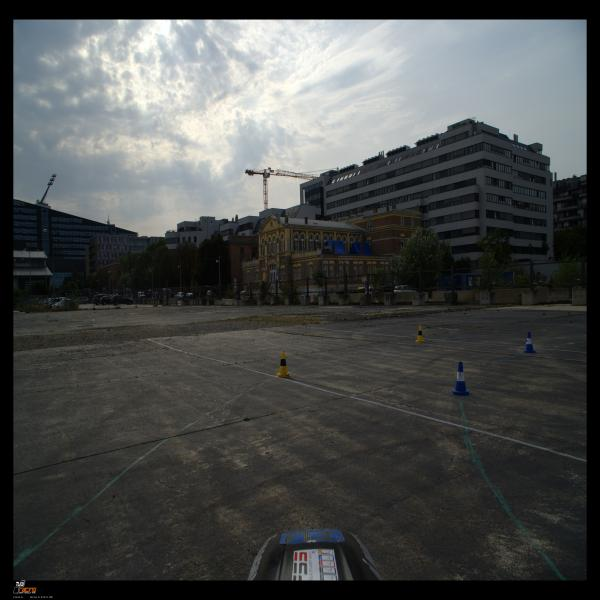blue_cone: (450, 361, 471, 396), (522, 332, 538, 353)
yellow_cone: (275, 351, 292, 378), (414, 325, 425, 343)
